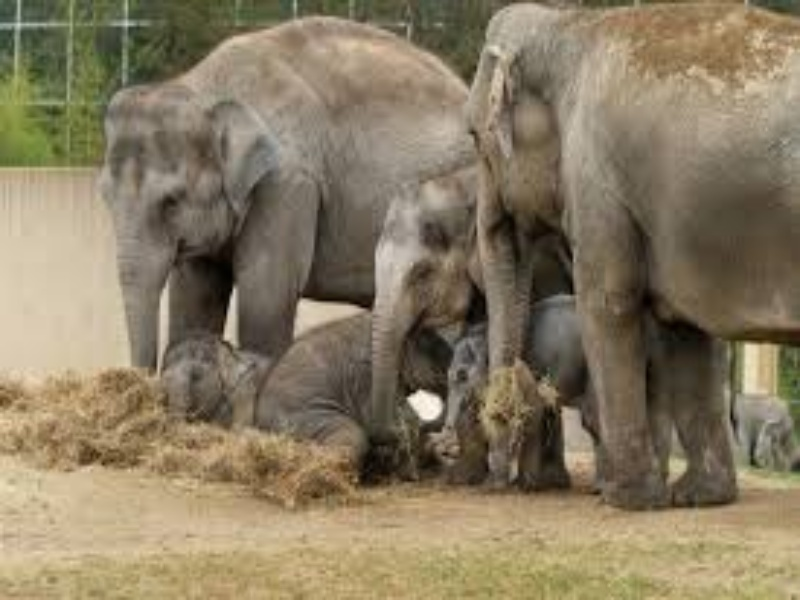elephant: (460, 1, 800, 511), (45, 2, 367, 341), (366, 159, 481, 439)
